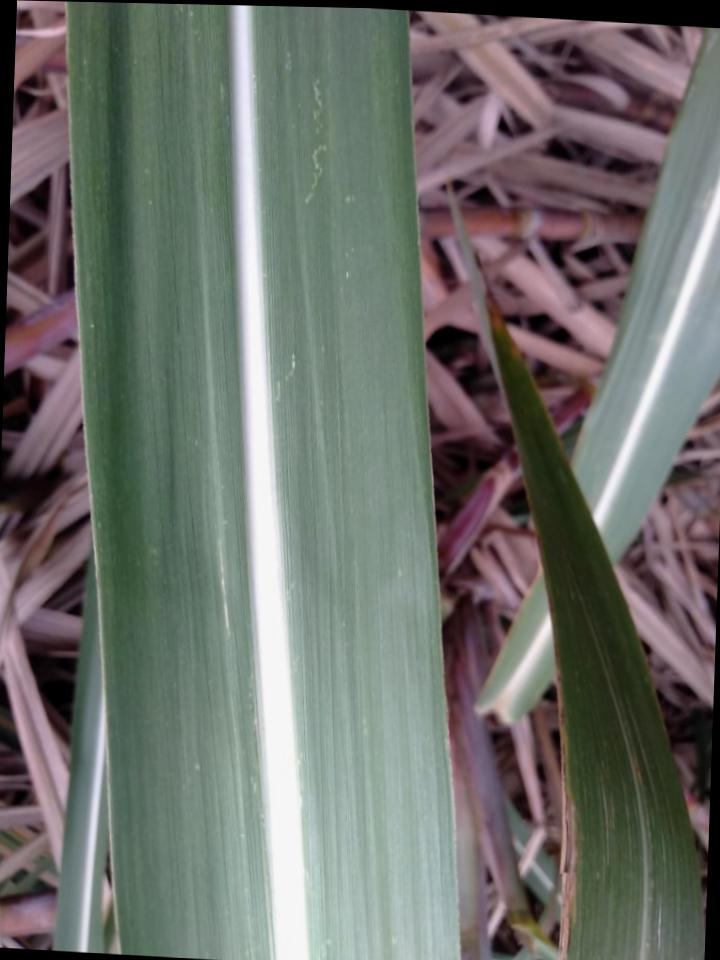Healthy: (65, 1, 460, 960), (55, 563, 106, 954)
